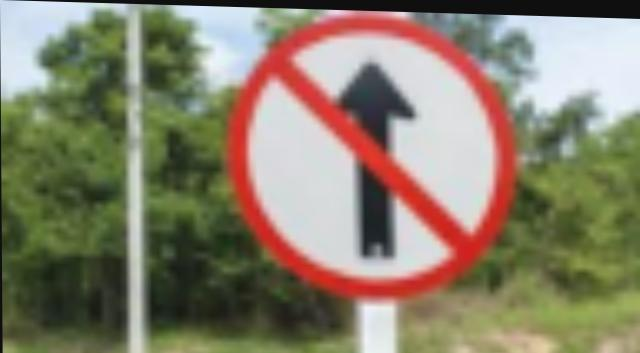not_go_straight: (220, 10, 524, 316)
